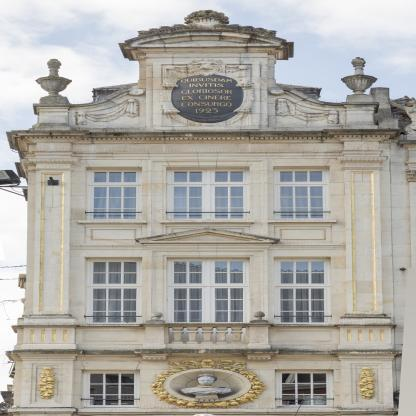Balcony: (165, 323, 250, 344)
Building Outline: (0, 9, 416, 416)
Cornice: (117, 29, 294, 64), (32, 88, 144, 116), (135, 227, 280, 245)
Deco: (159, 58, 256, 126), (150, 358, 267, 409), (137, 9, 278, 37), (269, 87, 380, 113), (35, 59, 73, 103), (341, 57, 378, 102), (38, 367, 57, 399), (358, 367, 376, 399)
Door: (166, 285, 250, 344)
Facade: (1, 9, 414, 415)
Floor: (27, 249, 403, 350), (27, 151, 403, 243), (16, 357, 403, 416)
Floor Slab: (16, 350, 403, 357), (28, 243, 410, 249)
Molding: (6, 128, 401, 145), (4, 349, 402, 361), (24, 149, 384, 159), (6, 408, 398, 415), (69, 244, 346, 249)
Pillar: (334, 156, 397, 350), (18, 157, 80, 350)
Sill: (159, 220, 256, 224), (267, 220, 337, 224), (78, 220, 147, 224)
Window: (166, 166, 249, 220), (274, 256, 331, 324), (85, 257, 142, 324), (273, 166, 330, 220), (85, 167, 142, 220), (166, 257, 250, 285), (275, 370, 333, 409), (82, 370, 140, 409)
